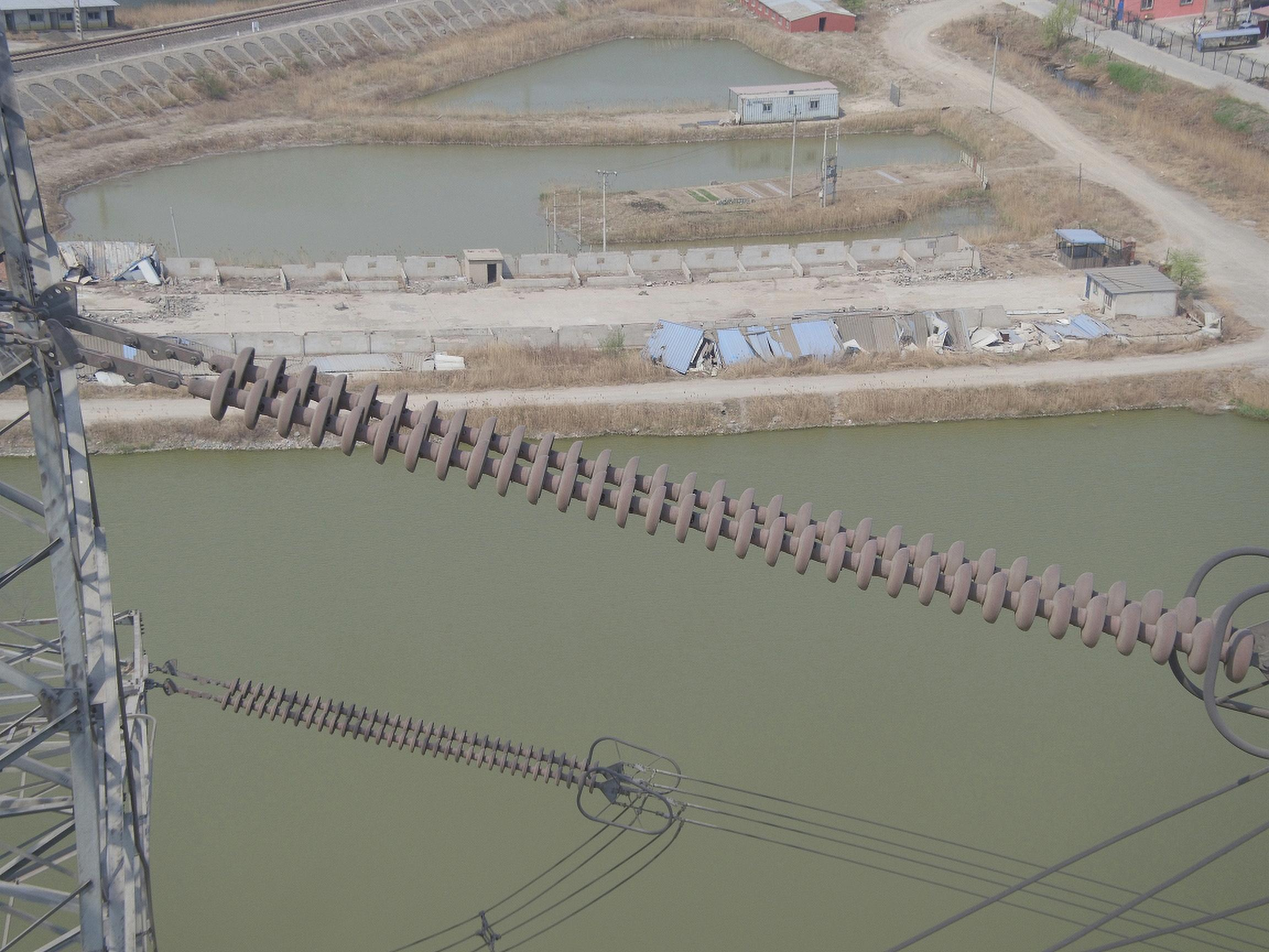insulator: (201, 344, 1261, 687), (214, 675, 603, 796)
